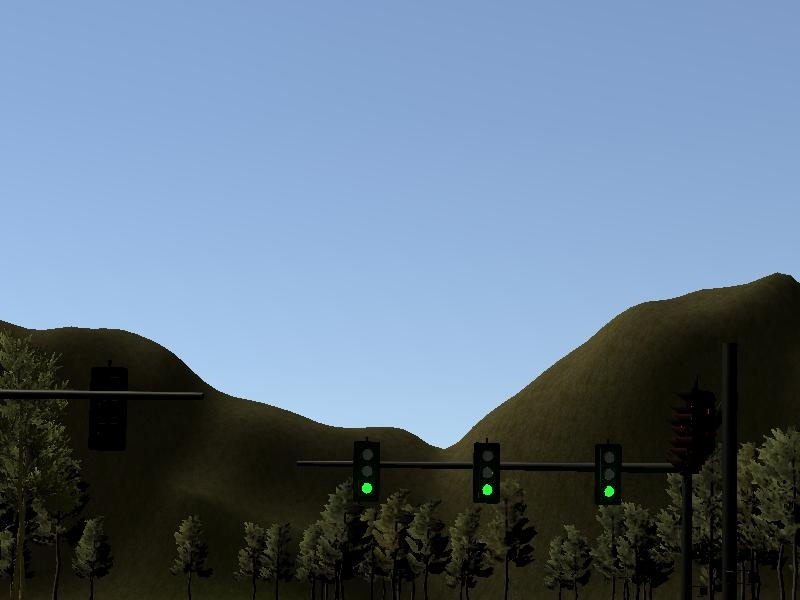GREEN: (347, 436, 383, 504), (591, 439, 625, 509), (469, 439, 501, 505)
